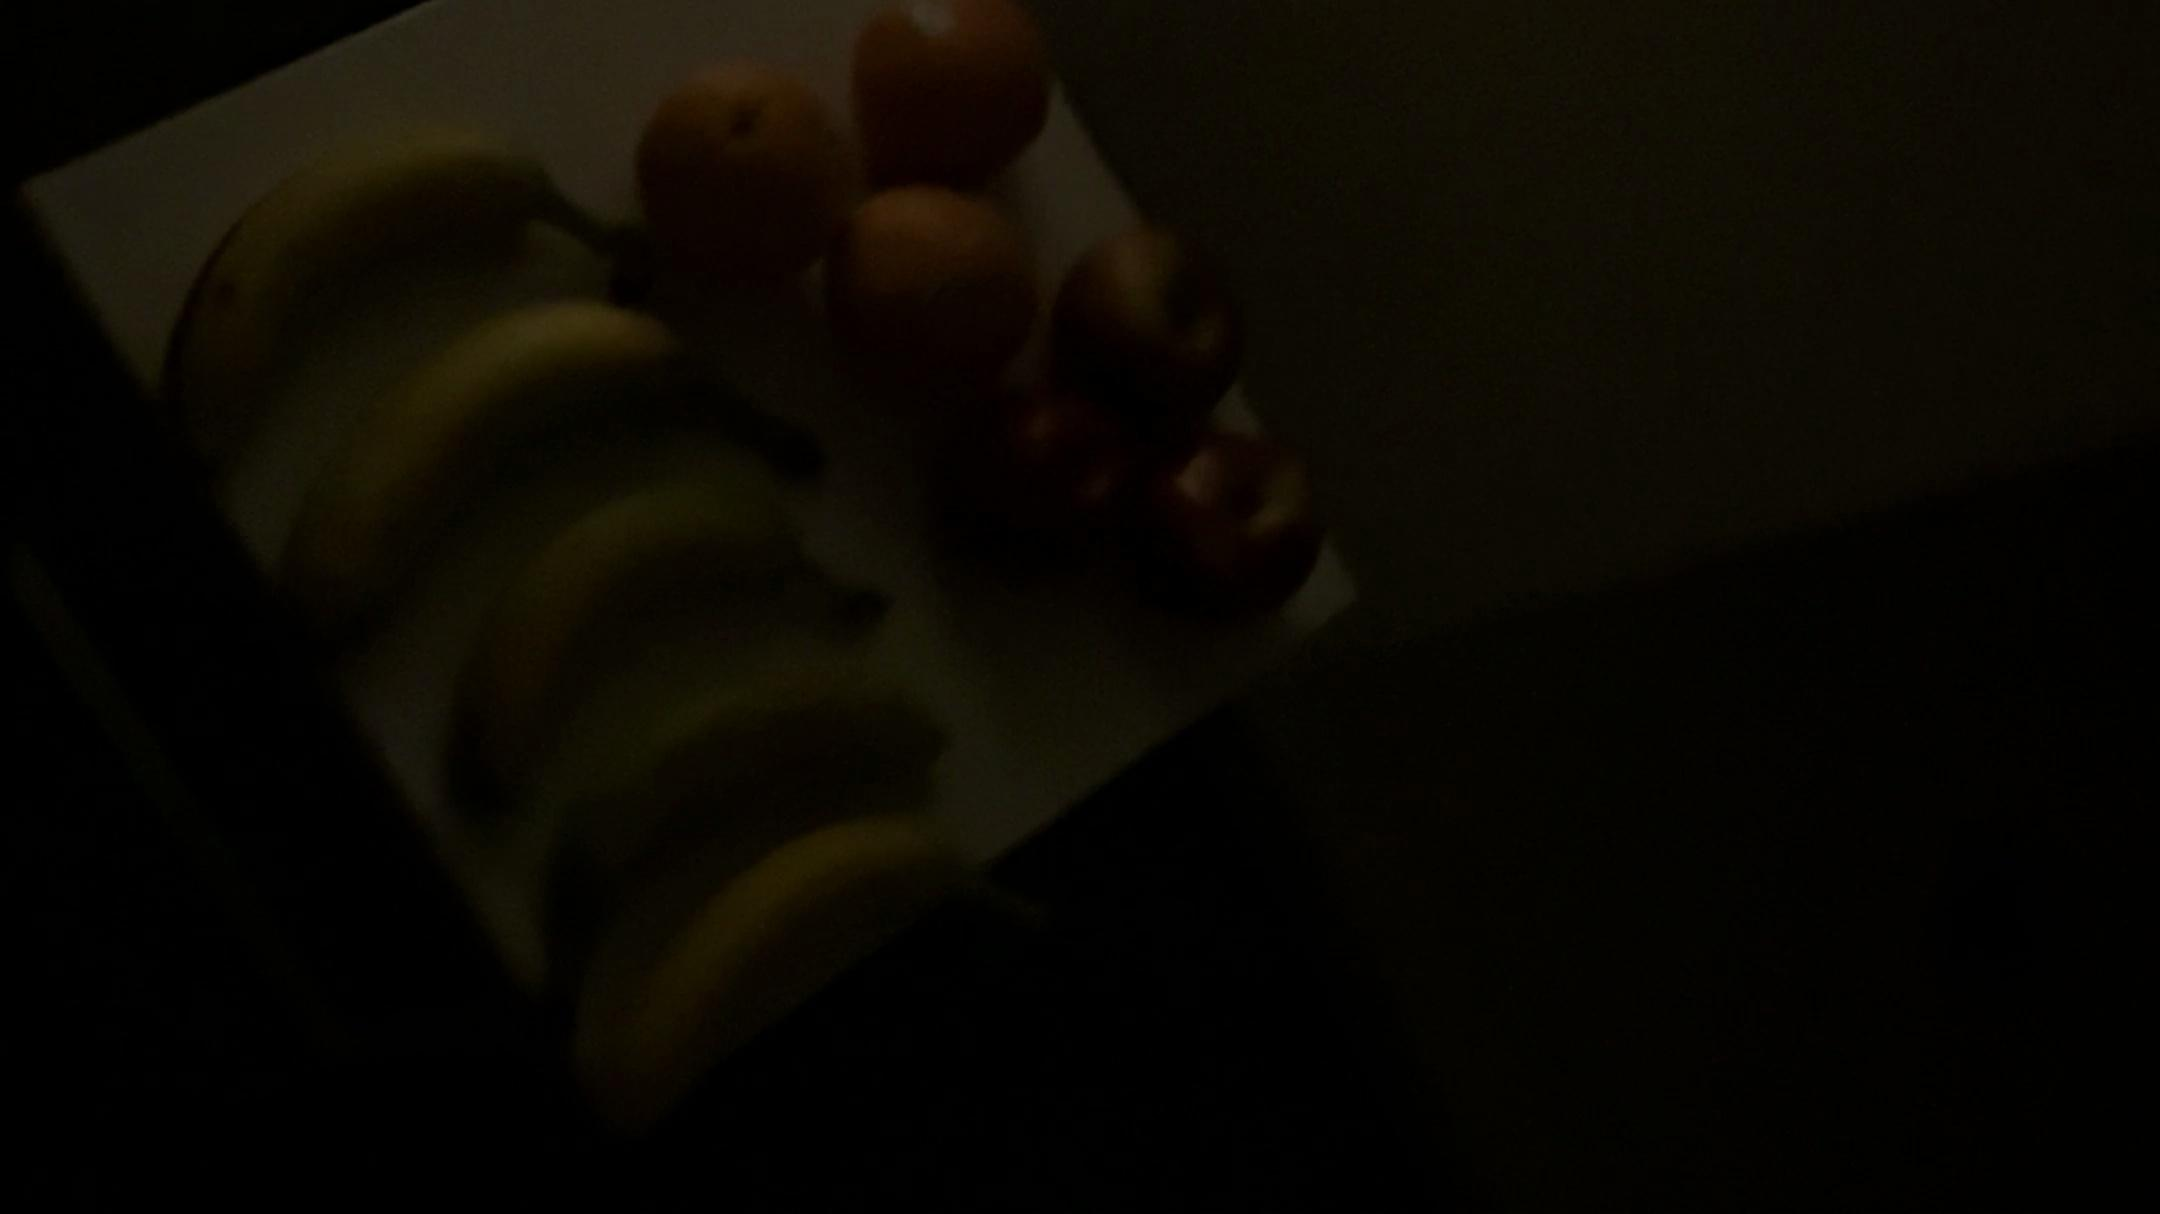apple: (926, 365, 1148, 594), (1038, 214, 1260, 433), (1127, 410, 1322, 646)
banana: (117, 129, 648, 445), (424, 451, 875, 804), (267, 298, 740, 620), (519, 653, 955, 947), (587, 803, 990, 1074)
orange: (803, 159, 1037, 417), (633, 47, 859, 273), (853, 3, 1058, 183)
